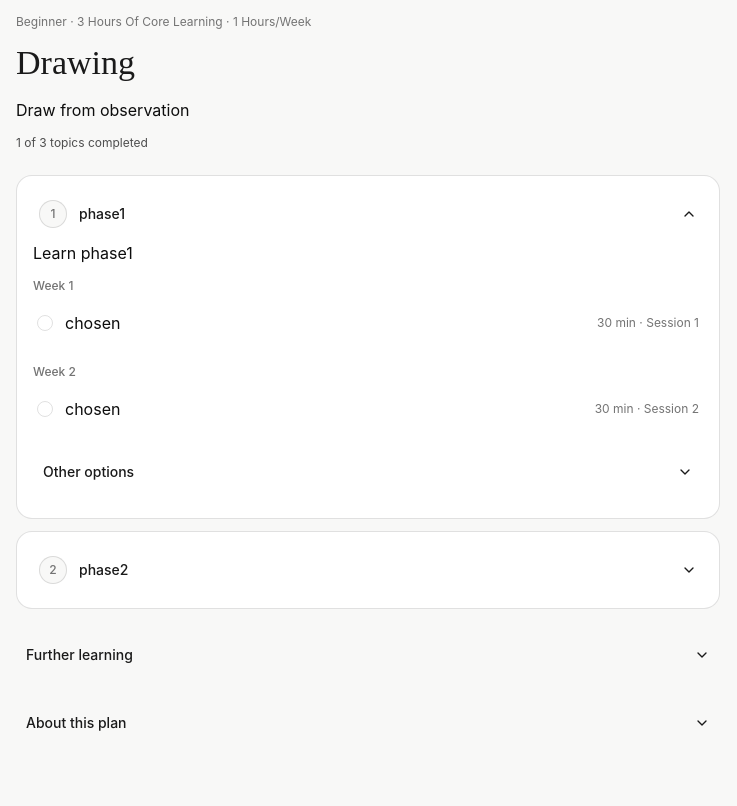
shows actual split weekly sessions and keeps plan details collapsed
The image size is (737, 806).
Check: the heading "Week 1" is shown, box [33,278,73,292]
Check: the heading "Week 2" is shown, box [33,364,76,378]
Click the button "About this plan". click: (76, 722)
box: [16,700,720,744]
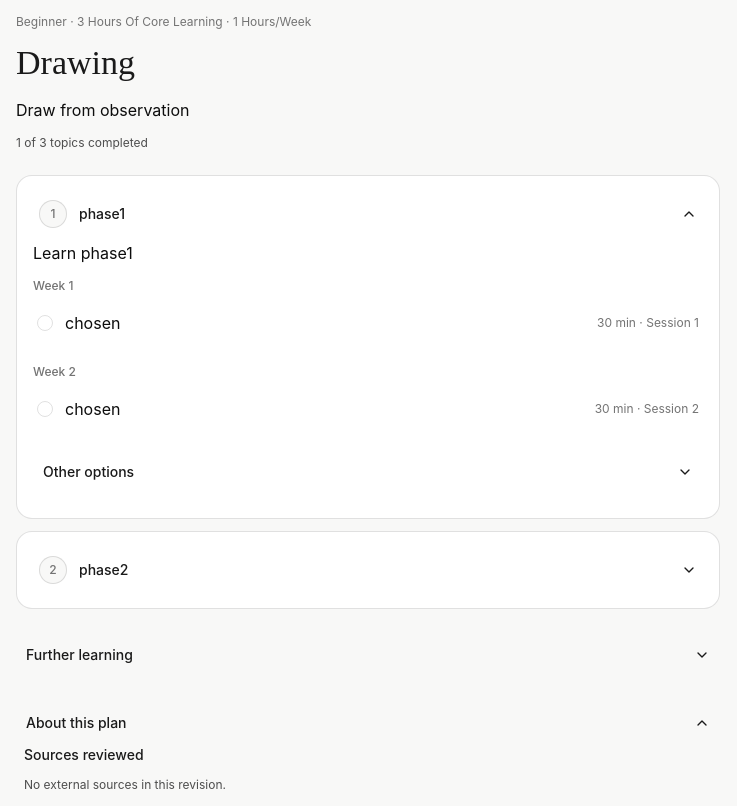
Check: the heading "Sources reviewed" is shown, box [24,746,144,762]
